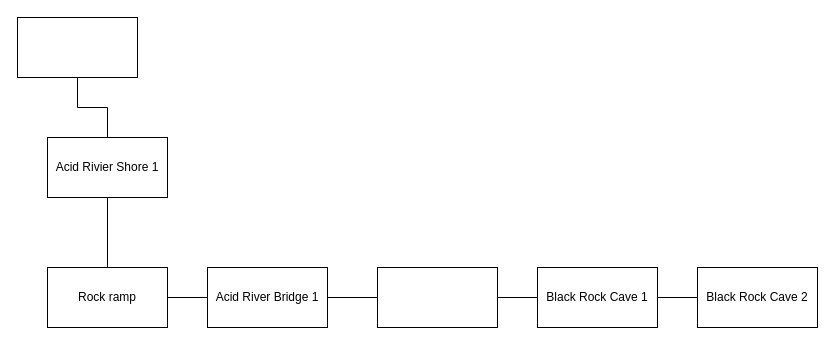
Image size: 835x345. Some labels were removed from this diagram. The shapes that lost their labels are listed below. From the top down, each one's centre as x and y in pixels, then its label:
At point 77,47: "Acid River Shore 2".
At point 437,297: "Acid River Bridge 2".
